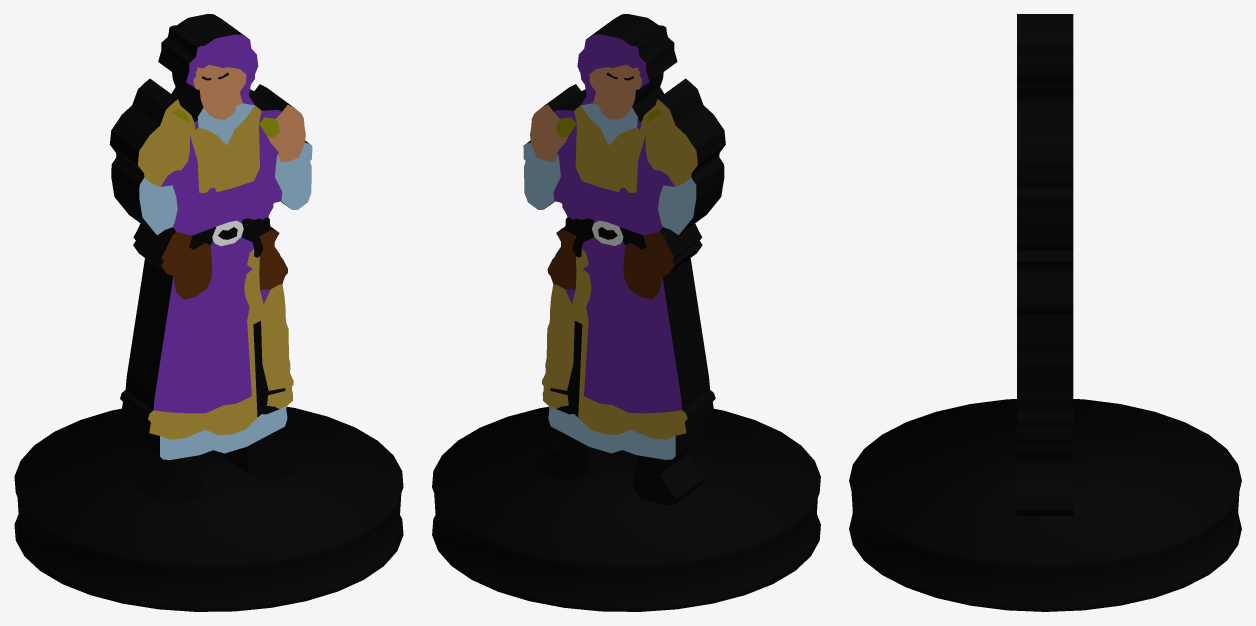
The model's file is merchant.fbx.
The picture shows the model from 3 angles, left to right: view 1: azimuth 30°, elevation 25°; view 2: azimuth 150°, elevation 25°; view 3: azimuth 270°, elevation 25°; orthographic projection.
Parts seen in each view (by area): view 1: Cylinder; view 2: Cylinder; view 3: Cylinder.
Part boxes in pixels (x1=…): Cylinder: x1=14, y1=14, x2=403, y2=611; Cylinder: x1=432, y1=14, x2=820, y2=611; Cylinder: x1=849, y1=14, x2=1241, y2=611.
Bounding box in the file's own units: 200 × 285 × 200.
